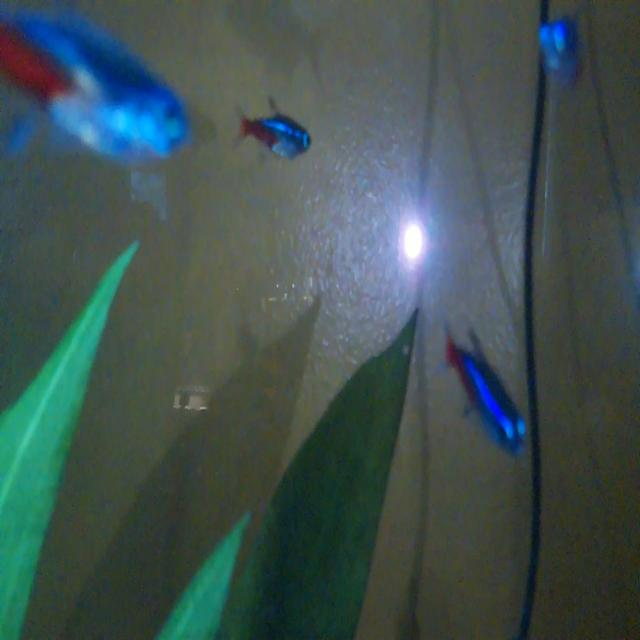fish: (434, 313, 528, 462), (232, 87, 320, 171)
